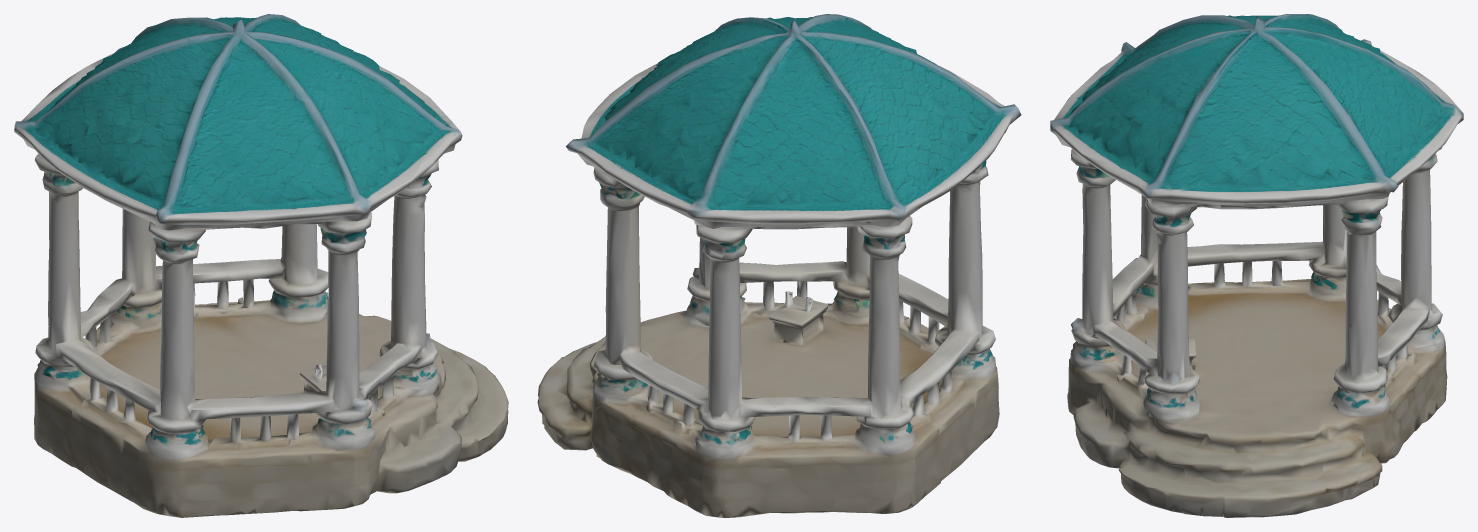
The model's file is seaside-gazebo.glb.
The picture shows the model from 3 angles, left to right: view 1: azimuth 30°, elevation 25°; view 2: azimuth 150°, elevation 25°; view 3: azimuth 270°, elevation 25°; orthographic projection. The views are drawn at different scales.
Parts seen in each view (by area): view 1: tripo_node_3f713fd1-7c79-41d4-bfe1-b34ec65a842b; view 2: tripo_node_3f713fd1-7c79-41d4-bfe1-b34ec65a842b; view 3: tripo_node_3f713fd1-7c79-41d4-bfe1-b34ec65a842b.
Boxes of the visible parts, <box> form: tripo_node_3f713fd1-7c79-41d4-bfe1-b34ec65a842b: <box>14,14,508,517</box>; tripo_node_3f713fd1-7c79-41d4-bfe1-b34ec65a842b: <box>537,14,1021,517</box>; tripo_node_3f713fd1-7c79-41d4-bfe1-b34ec65a842b: <box>1050,14,1463,517</box>.
Size of the model in its own units: 1 by 0.985 by 0.9253.
Materials: 1 (1 with a texture image).
